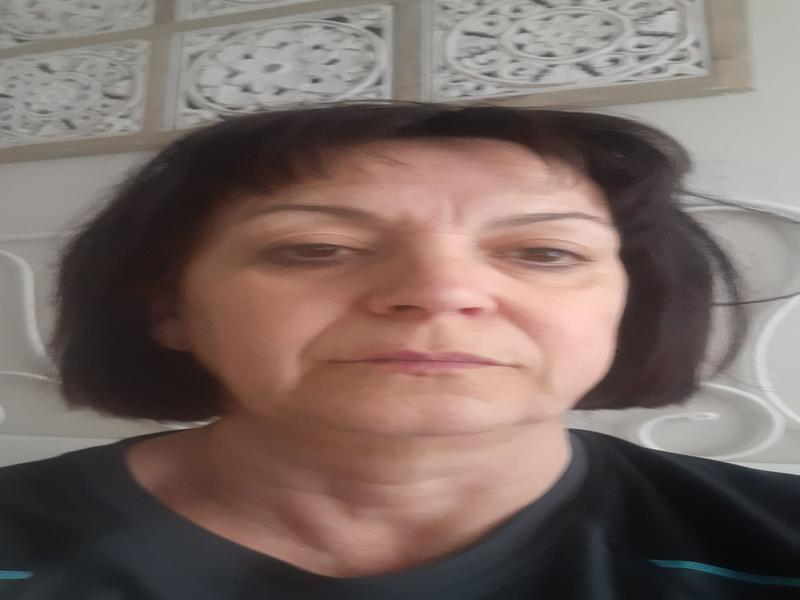NWink: (241, 204, 617, 298)
